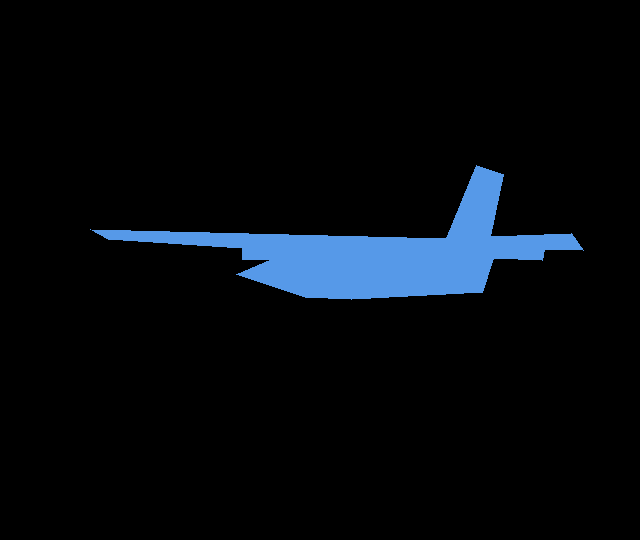Airplane: (90, 165, 584, 300)
